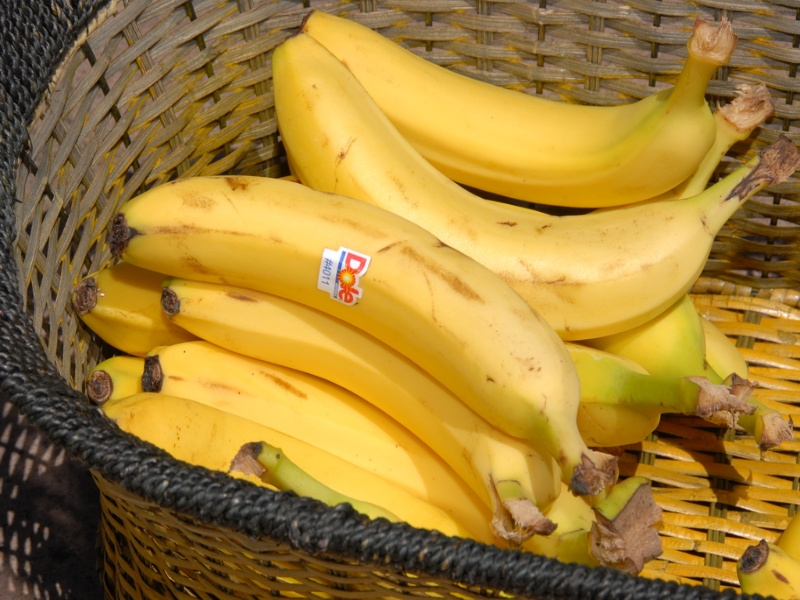dining table: (103, 175, 612, 541), (276, 6, 744, 209)
